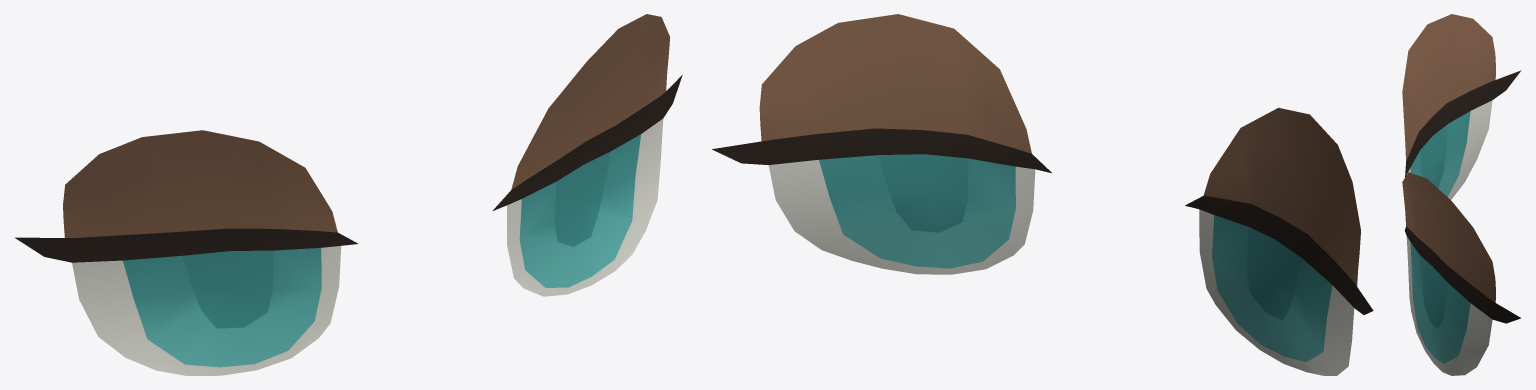
Rendered from Eye_BlueA_4.fbx.
3 views of the same model, side by side, from view 1: azimuth 30°, elevation 25°; view 2: azimuth 150°, elevation 25°; view 3: azimuth 270°, elevation 25° (orthographic). The views are drawn at different scales.
Visible parts, largest first — view 1: Eye_BlueA_4; view 2: Eye_BlueA_4; view 3: Eye_BlueA_4.
Boxes of the visible parts, box(x1,y1,x2,y2) form: Eye_BlueA_4: box(15, 14, 682, 375); Eye_BlueA_4: box(712, 14, 1373, 375); Eye_BlueA_4: box(1402, 14, 1521, 375).
Size of the model in its own units: 41.23 by 14.98 by 8.38.
